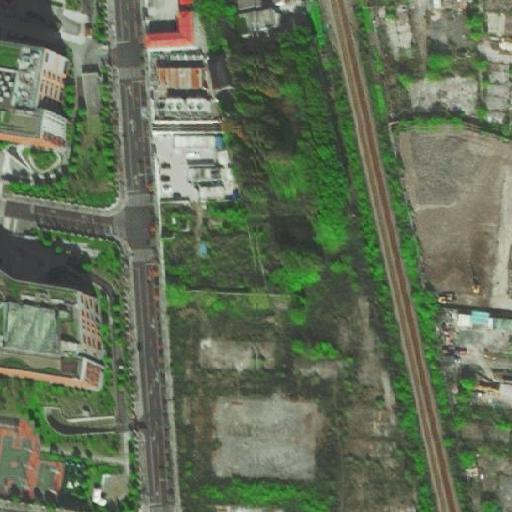building: (0, 49, 71, 147), (150, 4, 205, 48), (151, 67, 210, 103), (239, 14, 285, 45), (466, 367, 512, 397), (457, 306, 512, 330), (82, 69, 102, 119), (208, 55, 233, 92)
